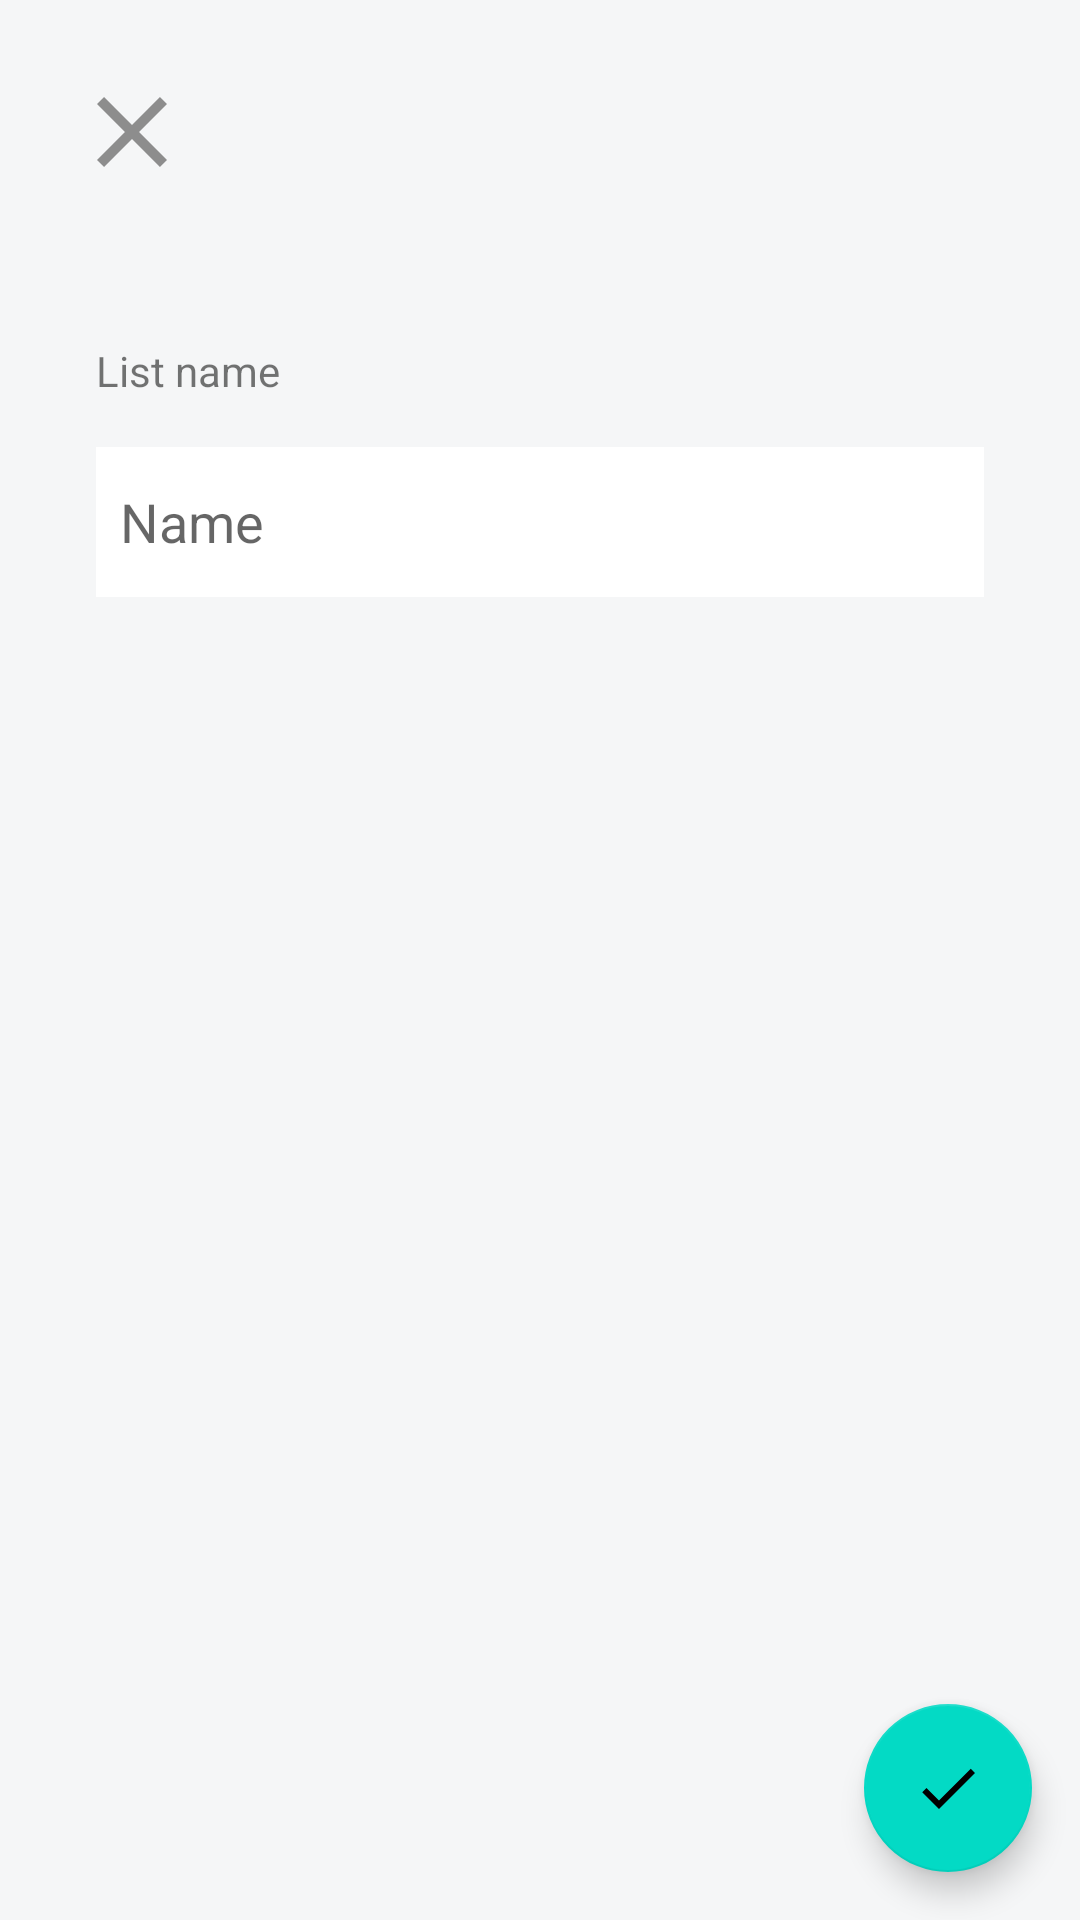

Locate icon controls on the screen. Image size 1080px x 1920px, boxes as bbox=(x1, y1, x2, y2).
check: bbox=(864, 1704, 1032, 1872)
close: bbox=(97, 97, 167, 167)
